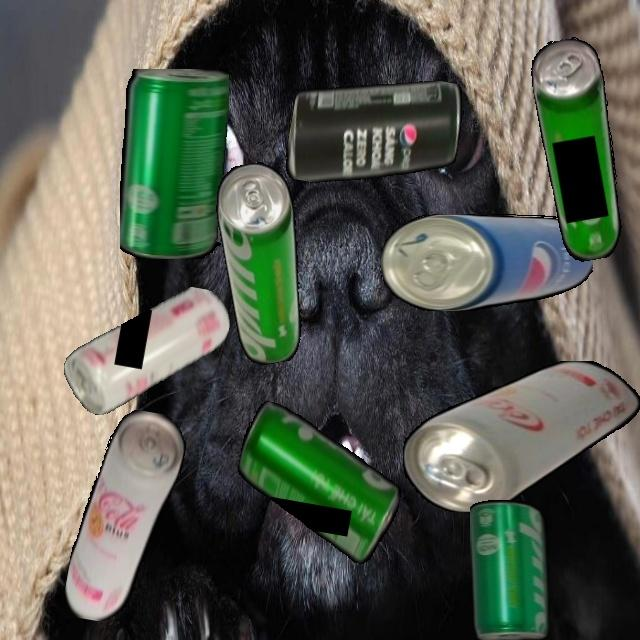debris: (403, 360, 640, 512), (226, 399, 412, 568), (57, 268, 235, 434), (61, 403, 190, 631), (282, 57, 468, 206), (526, 34, 634, 264), (210, 158, 319, 368), (120, 68, 229, 259), (381, 213, 593, 311), (470, 499, 550, 640)
